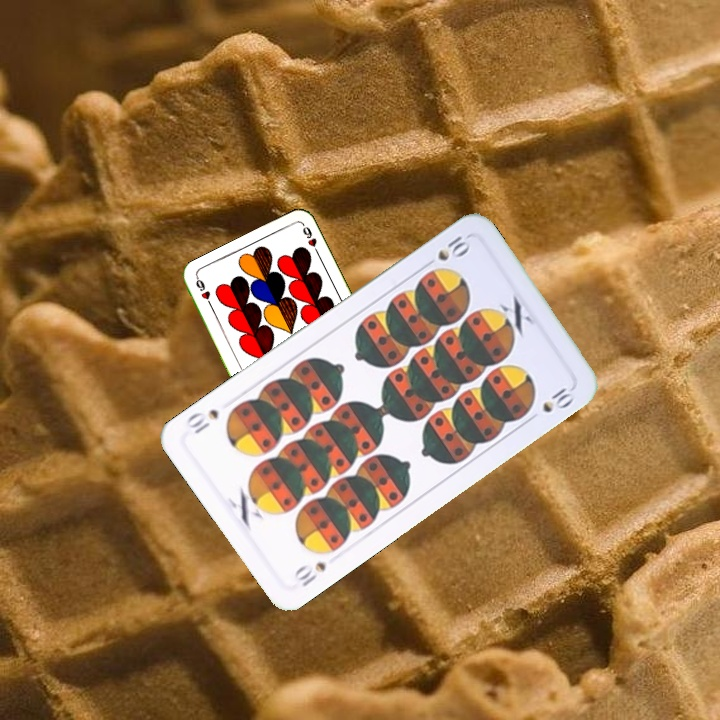H9: (192, 275, 216, 313)
S10: (433, 231, 473, 264), (290, 557, 329, 590)
